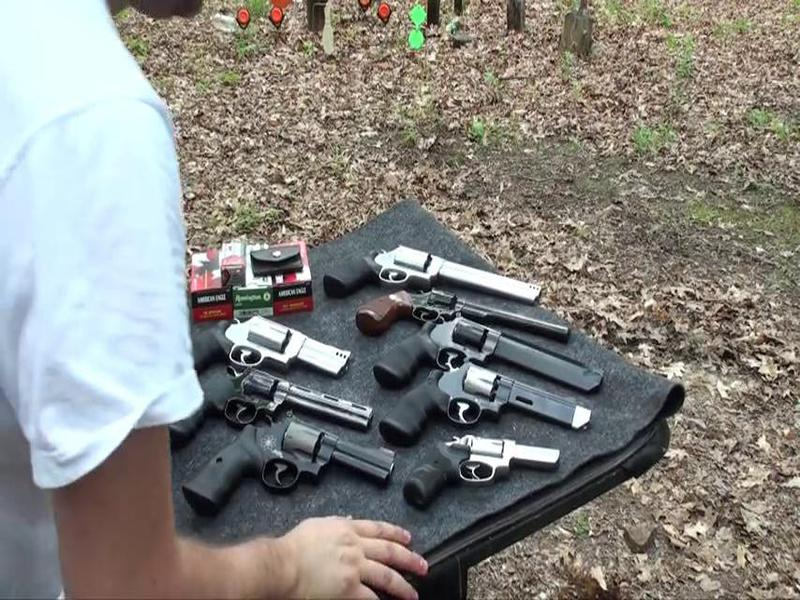Revolver: (355, 353, 578, 456)
